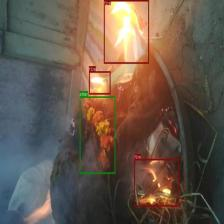fire: (104, 0, 149, 64), (134, 159, 179, 206), (89, 71, 110, 94)
